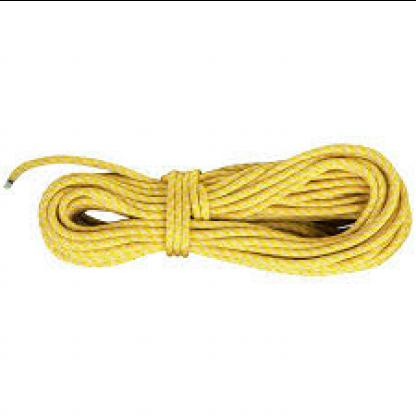Rope: (0, 136, 414, 284)
